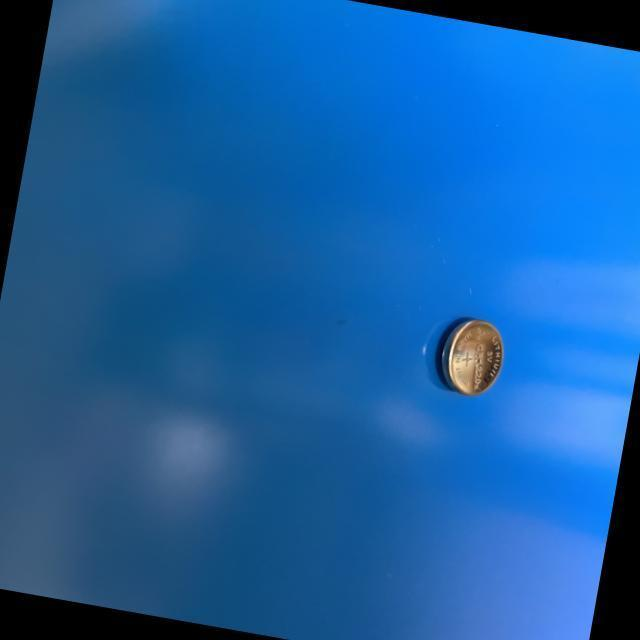COIN: (432, 314, 508, 400)
